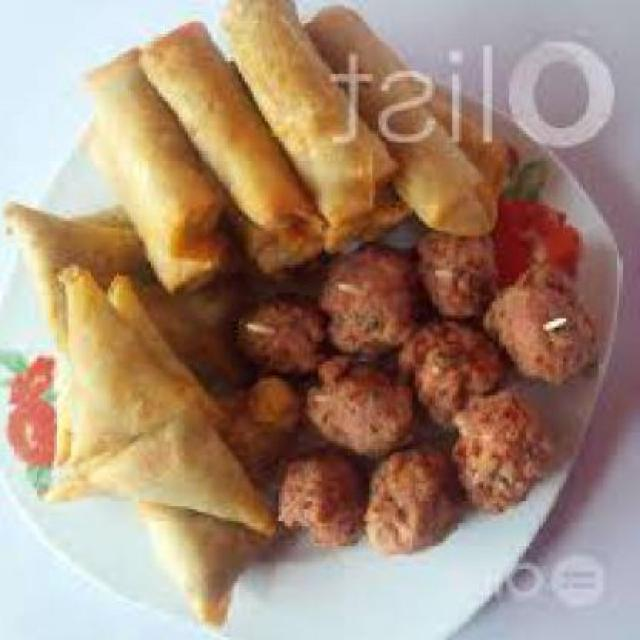samosa: (25, 196, 233, 618)
